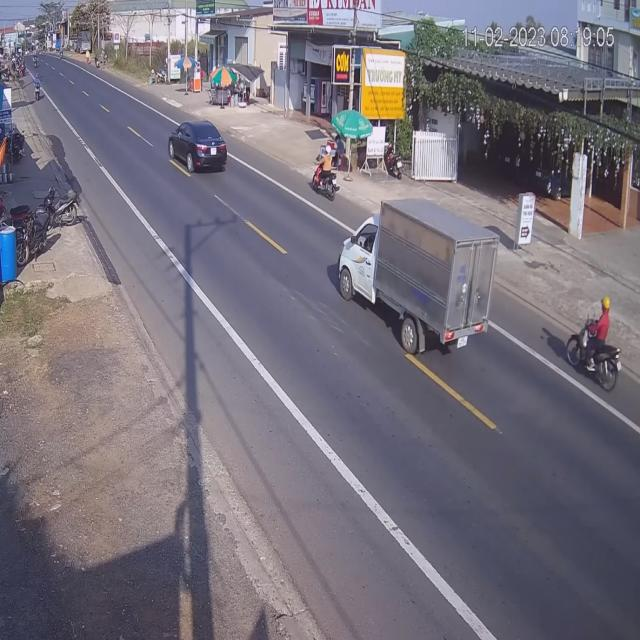car: (172, 120, 230, 174)
motorbike: (565, 297, 620, 391), (309, 142, 338, 202)
truck: (337, 182, 501, 354)
